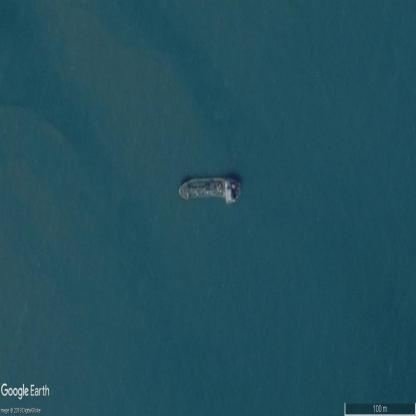ship: (177, 176, 242, 206)
